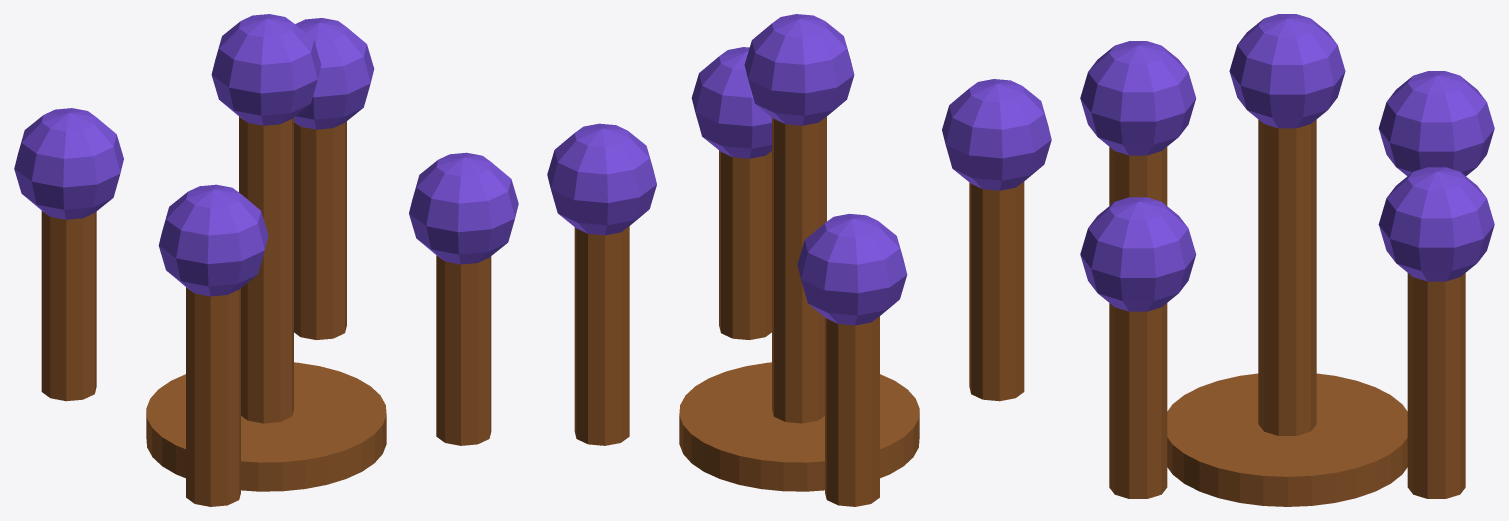
The model's file is tesla_turret.obj.
3 views of the same model, side by side, from view 1: azimuth 30°, elevation 25°; view 2: azimuth 150°, elevation 25°; view 3: azimuth 270°, elevation 25° (orthographic). The views are drawn at different scales.
Visible parts, largest first — view 1: TeslaTurret; view 2: TeslaTurret; view 3: TeslaTurret.
Part boxes in pixels (x1,y1,x2,y2): TeslaTurret: (14, 14, 518, 506); TeslaTurret: (547, 14, 1051, 506); TeslaTurret: (1080, 14, 1494, 506).
Size of the model in its own units: 0.4931 by 0.58 by 0.5.
